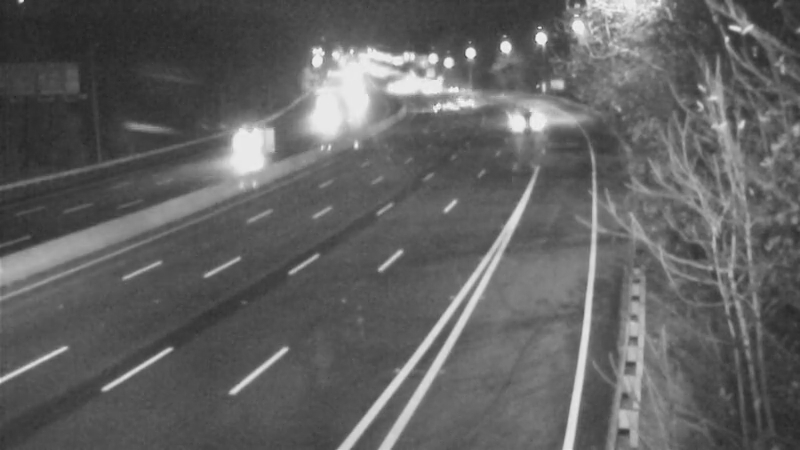vehicle: (434, 81, 484, 131), (411, 81, 461, 131), (489, 93, 539, 143), (230, 115, 280, 165)
